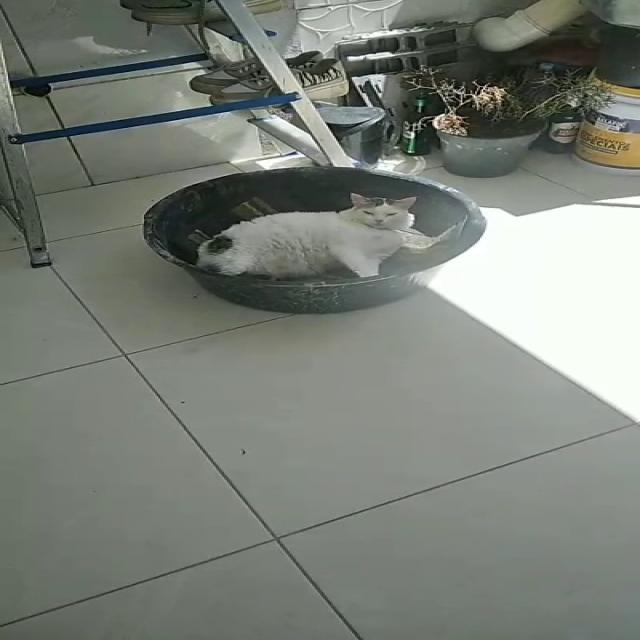Simba: (182, 188, 508, 288)
